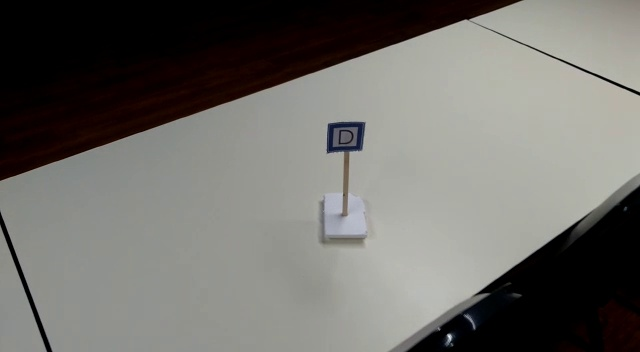durak: (328, 122, 363, 153)
